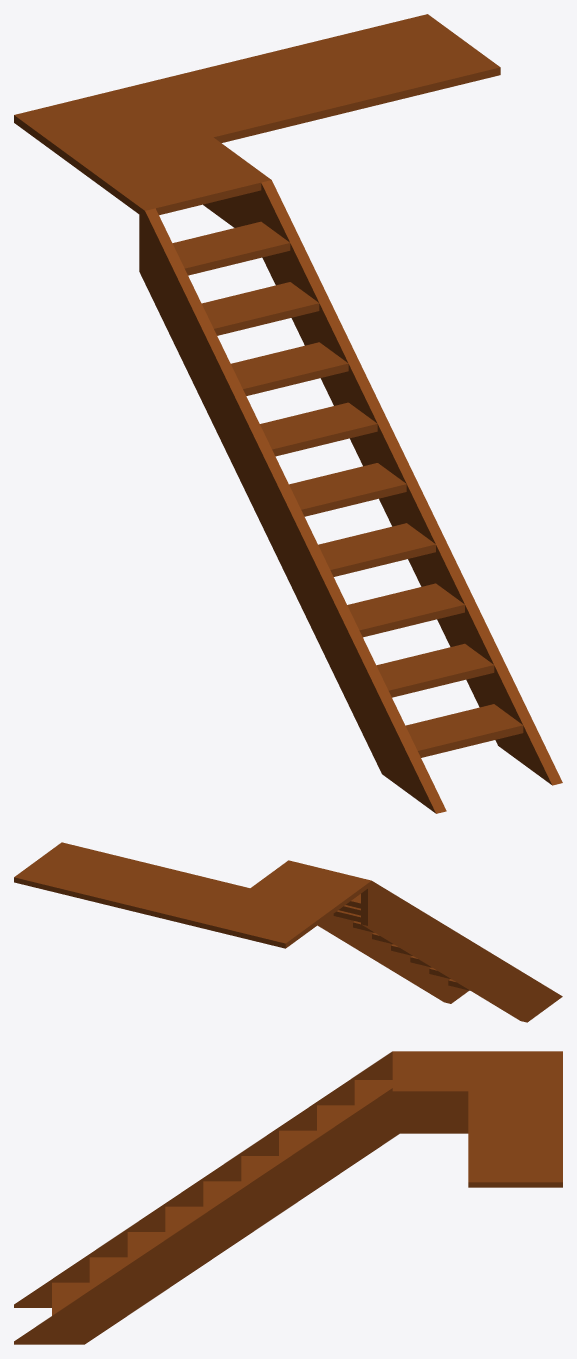
The model's file is Prop_Stairs_Wooden_01.FBX.
3 views of the same model, one above another, from view 1: azimuth 30°, elevation 25°; view 2: azimuth 150°, elevation 25°; view 3: azimuth 270°, elevation 25° (orthographic). The views are drawn at different scales.
Visible parts, largest first — view 1: Prop_Stairs_Wooden_01; view 2: Prop_Stairs_Wooden_01; view 3: Prop_Stairs_Wooden_01.
Part boxes in pixels (x1=…): Prop_Stairs_Wooden_01: x1=14, y1=14, x2=562, y2=813; Prop_Stairs_Wooden_01: x1=14, y1=842, x2=562, y2=1022; Prop_Stairs_Wooden_01: x1=14, y1=1051, x2=562, y2=1344.
Bounding box in the file's own units: 2418 × 2177 × 4274.
